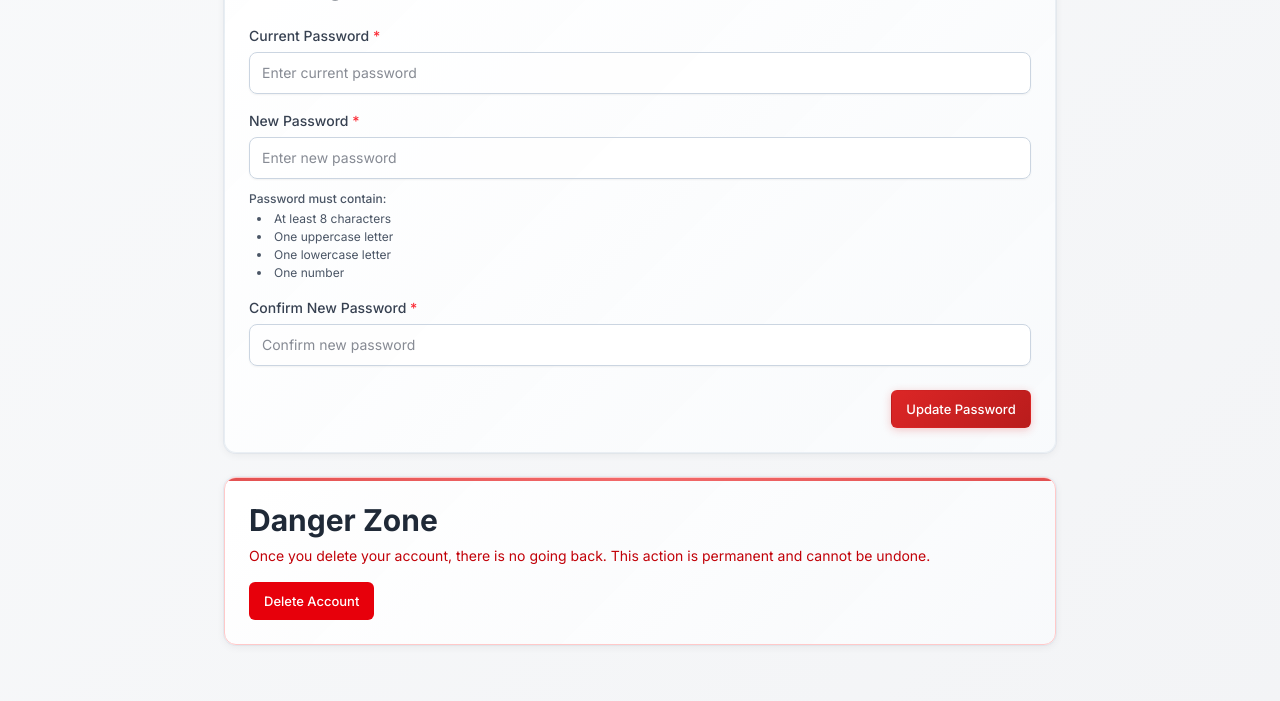
Scenario: ProfilePage › delete account flow › should show second confirmation modal on continue
(page scrolled)
Click the button "Delete Account" at point(312, 601), box [249,582,374,620]
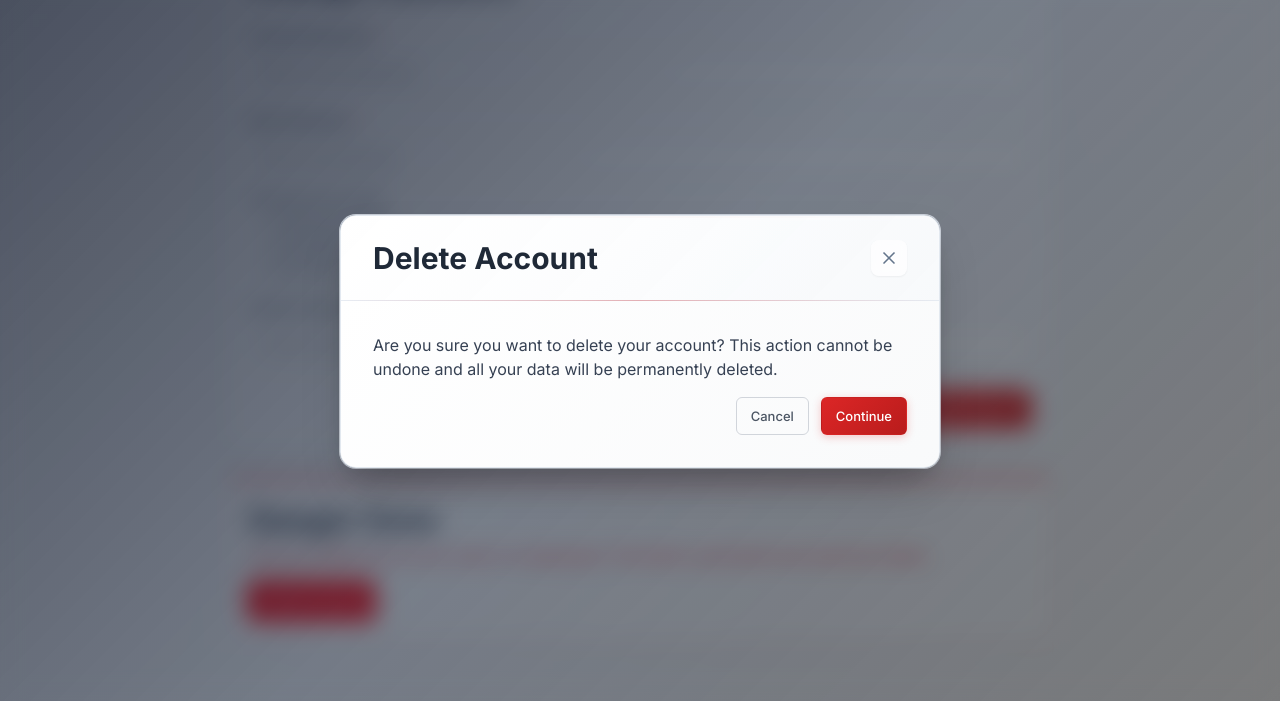
Expected: the button "Continue" is shown
Click the button "Continue" at point(864, 416), box [821,396,907,434]
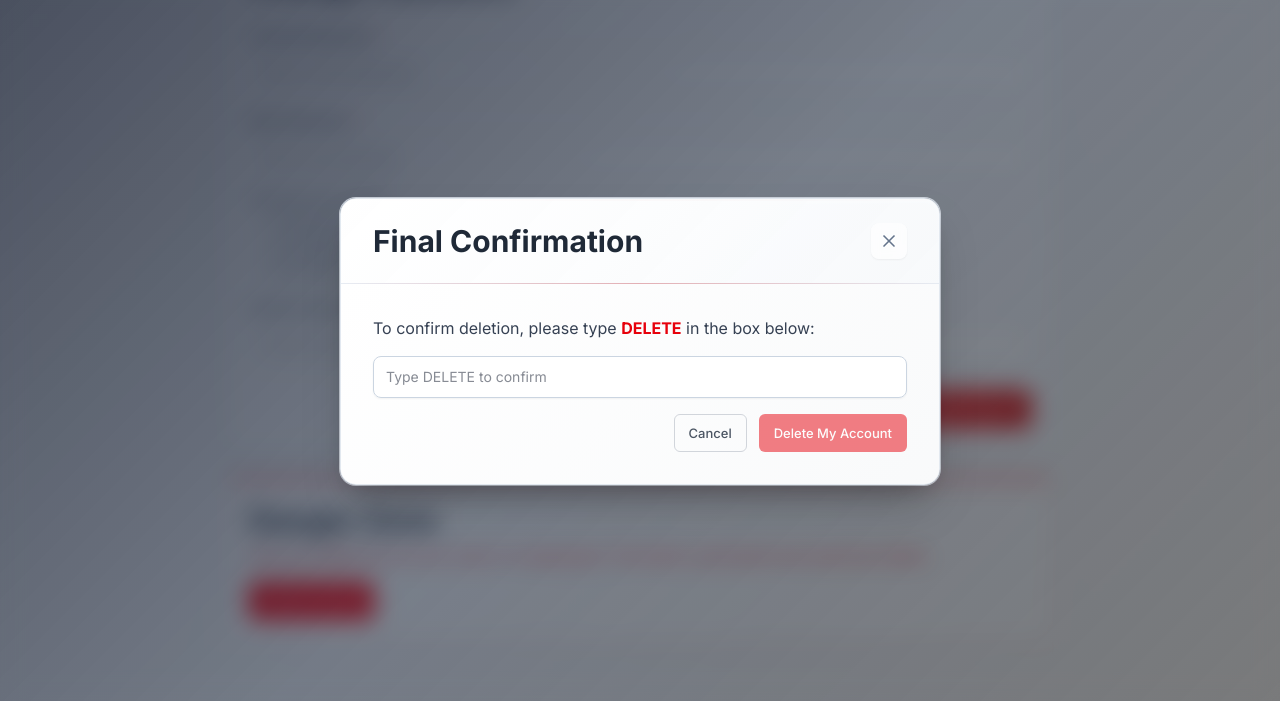
Expected: the field with placeholder "Type DELETE to confirm" is shown, [373,356,907,398]
